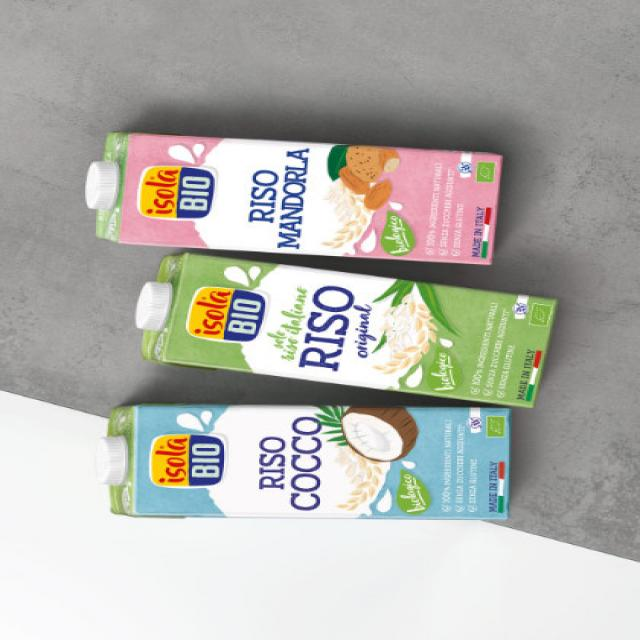non_white_jug: (132, 252, 558, 407), (83, 128, 500, 268), (95, 402, 510, 523)
